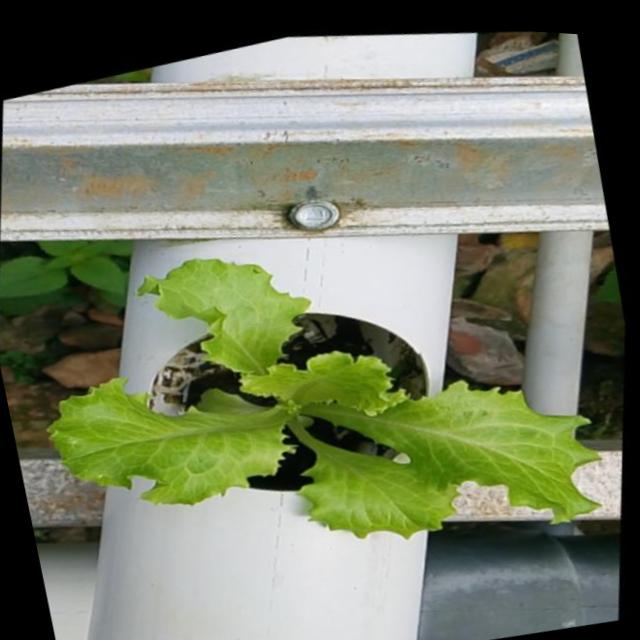Baby: (37, 266, 591, 543)
